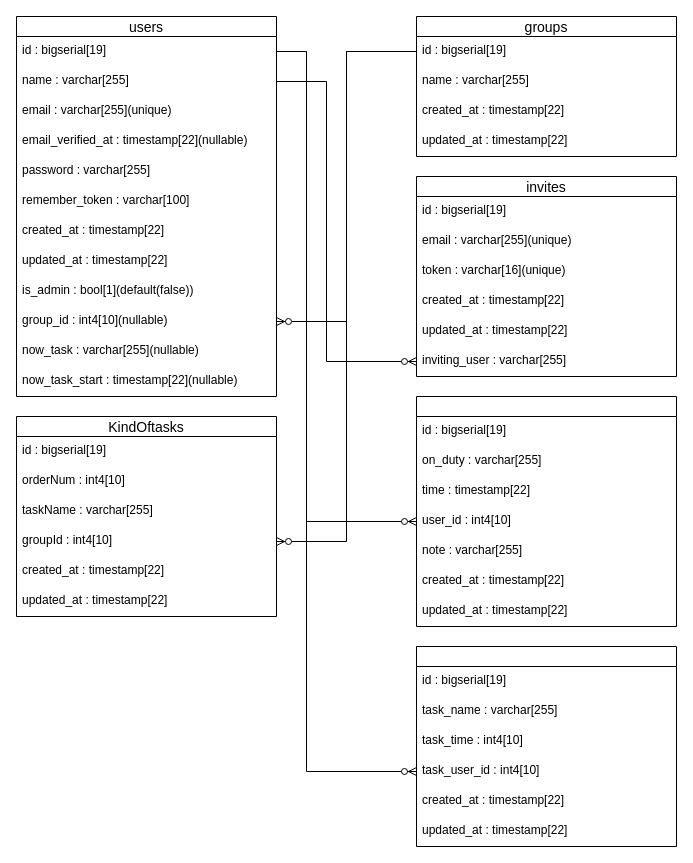
Some shapes in this 693 by 863 pixel diagram are drawn without their labels. The box of each missing label's shape, as (x1, y1, x2, y2) in pixels:
attendances: (416, 396, 676, 626)
tasks: (416, 646, 676, 846)
